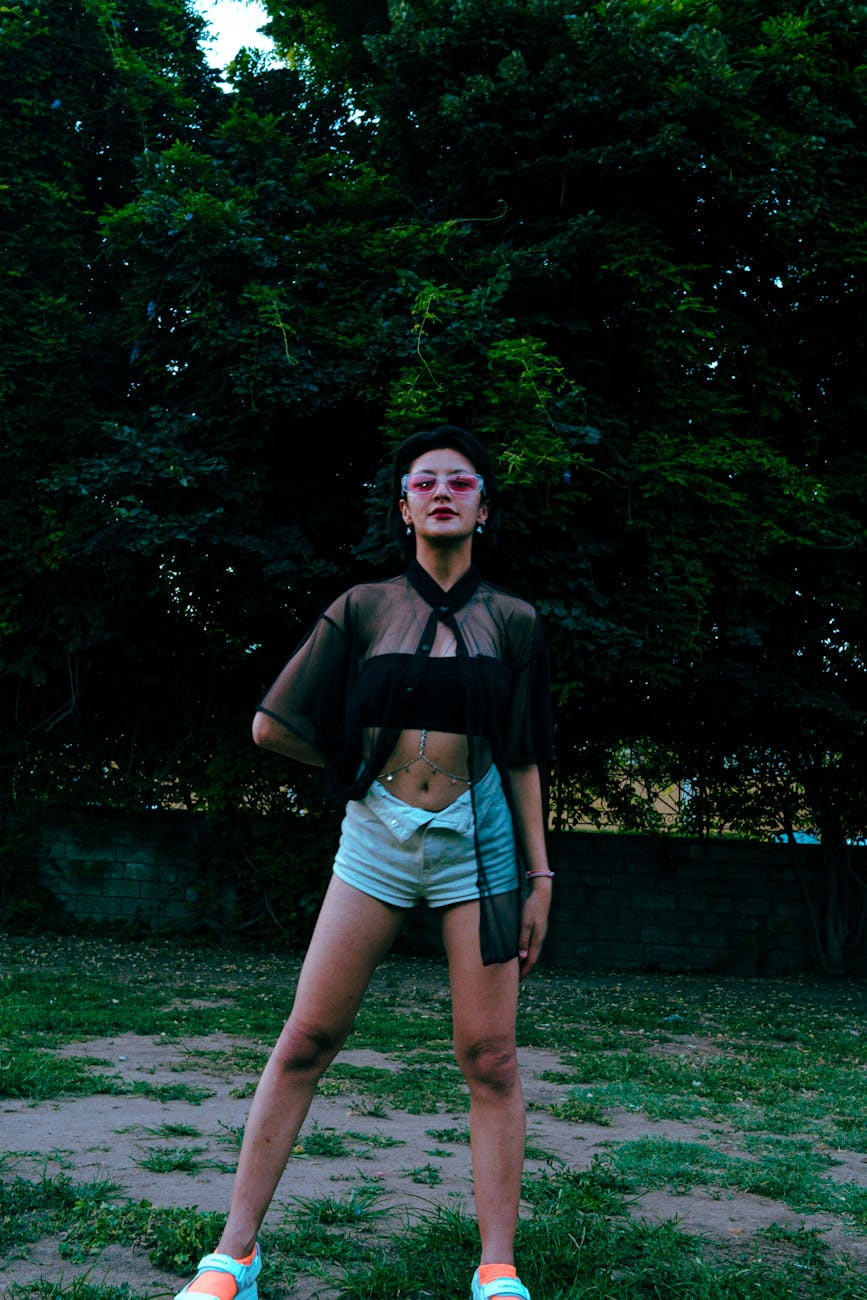crop_top: (335, 589, 547, 745)
opened_foot: (157, 1237, 271, 1300), (453, 1259, 548, 1300)
shorts: (322, 764, 533, 914)
transparent_top: (331, 577, 551, 756)
